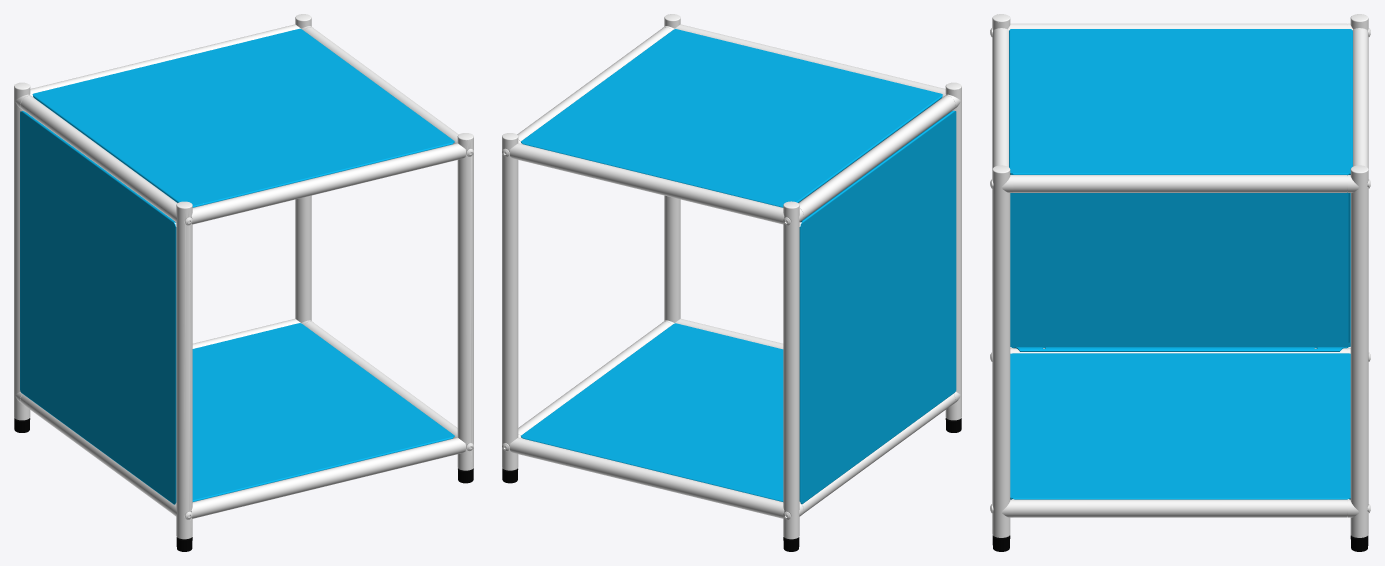
Rendered from 40x40x40-2-2-blue_optimized_optimized.glb.
3 renders of one model, left to right at view 1: azimuth 30°, elevation 25°; view 2: azimuth 150°, elevation 25°; view 3: azimuth 270°, elevation 25°, orthographic. The views are drawn at different scales.
Parts seen in each view (by area): view 1: 直角鐵板-40x40-5 - 零件, 反-鐵管-40-354..4-1 - 零件, 圓形腳+調整器-1 - 零件; view 2: 直角鐵板-40x40-5 - 零件, 反-鐵管-40-354..4-1 - 零件, 圓形腳+調整器-1 - 零件; view 3: 直角鐵板-40x40-5 - 零件, 反-鐵管-40-354..4-1 - 零件, 圓形腳+調整器-1 - 零件.
Part boxes in pixels (x1,y1,x2,y2): 直角鐵板-40x40-5 - 零件: [20, 28, 454, 504]; 反-鐵管-40-354..4-1 - 零件: [14, 14, 473, 539]; 圓形腳+調整器-1 - 零件: [14, 418, 473, 551]; 直角鐵板-40x40-5 - 零件: [521, 29, 956, 504]; 反-鐵管-40-354..4-1 - 零件: [502, 14, 961, 539]; 圓形腳+調整器-1 - 零件: [502, 418, 961, 551]; 直角鐵板-40x40-5 - 零件: [1009, 29, 1352, 499]; 反-鐵管-40-354..4-1 - 零件: [990, 14, 1370, 537]; 圓形腳+調整器-1 - 零件: [992, 535, 1368, 551].
Size of the model in its own units: 0.3992 by 0.4453 by 0.4035.
